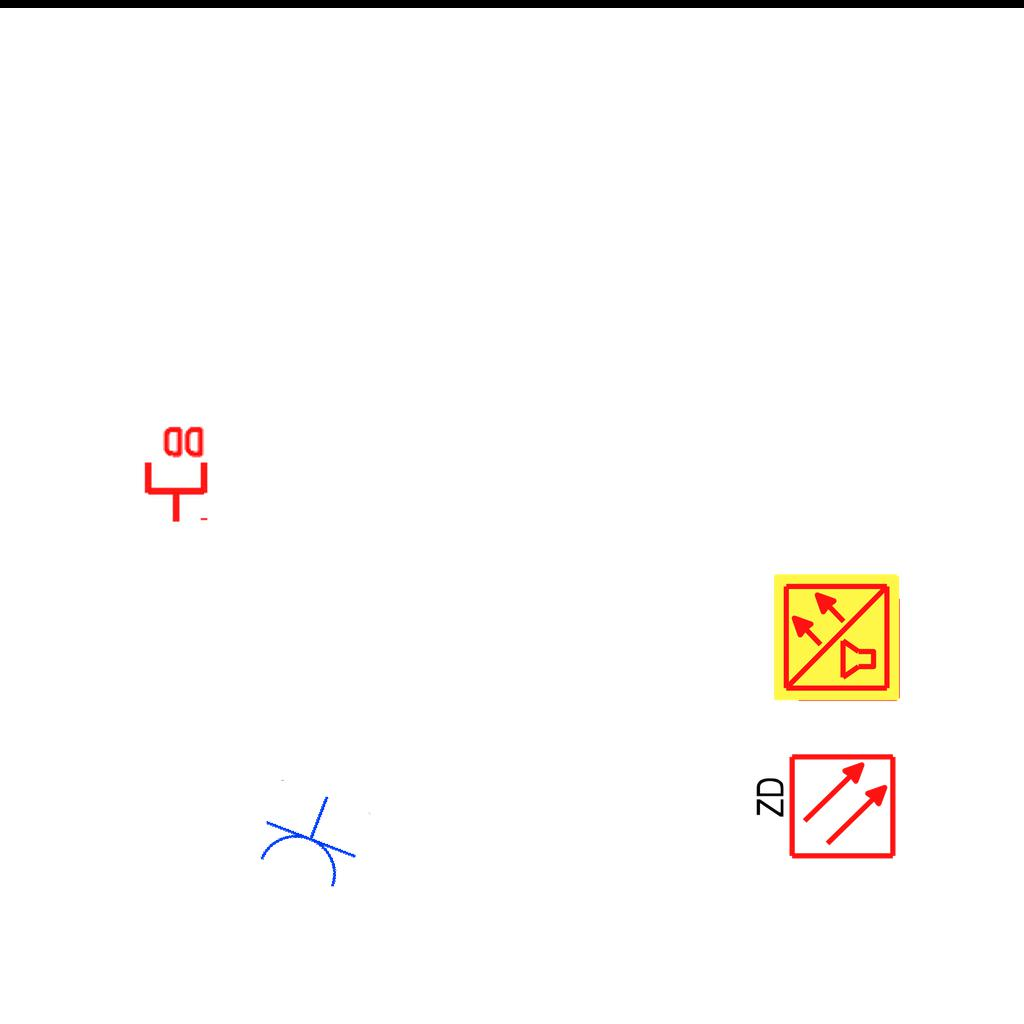Datenanschluss_zweifach: (140, 422, 209, 525)
OKW_Multisensormelder_(Kombination_optischer_Rauch-Kahlenmonoxid_Waerme-Melder): (771, 571, 903, 703)
Schukosteckdose_einfach: (248, 777, 374, 896)
ZD_Melder_in_Zwischendecke_mit_Revisionsoeffnung_mind_40_x_40_cm: (749, 751, 898, 865)
